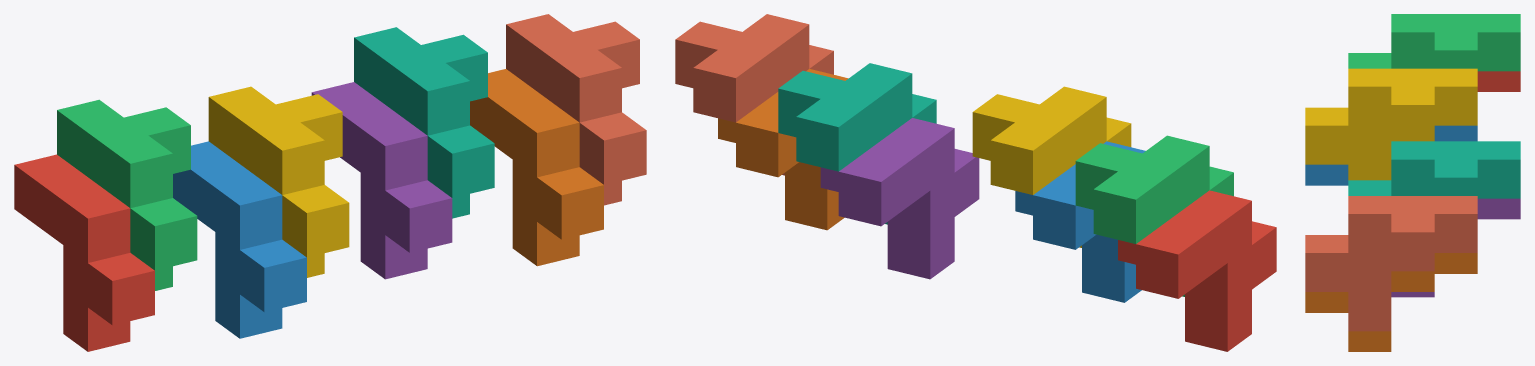
File: tiling.obj
3 renders of one model, left to right at view 1: azimuth 30°, elevation 25°; view 2: azimuth 150°, elevation 25°; view 3: azimuth 270°, elevation 25°, orthographic. The views are drawn at different scales.
Visible parts, largest first — view 1: copy_1_domain_1, copy_1_domain_6, copy_1_domain_2, copy_1_domain_4, copy_1_domain_3, copy_1_domain_8, copy_1_domain_7, copy_1_domain_5; view 2: copy_1_domain_5, copy_1_domain_1, copy_1_domain_3, copy_1_domain_7, copy_1_domain_4, copy_1_domain_8, copy_1_domain_6, copy_1_domain_2; view 3: copy_1_domain_8, copy_1_domain_4, copy_1_domain_7, copy_1_domain_3, copy_1_domain_6, copy_1_domain_2, copy_1_domain_5, copy_1_domain_1.
Part boxes in pixels (<box>): copy_1_domain_1: <box>14,154,154,351</box>; copy_1_domain_6: <box>470,69,603,266</box>; copy_1_domain_2: <box>173,141,306,338</box>; copy_1_domain_4: <box>208,86,349,277</box>; copy_1_domain_3: <box>57,99,197,290</box>; copy_1_domain_8: <box>506,14,646,205</box>; copy_1_domain_7: <box>354,27,494,218</box>; copy_1_domain_5: <box>311,82,452,279</box>; copy_1_domain_5: <box>820,118,979,279</box>; copy_1_domain_1: <box>1118,190,1276,351</box>; copy_1_domain_3: <box>1075,135,1233,296</box>; copy_1_domain_7: <box>778,63,936,224</box>; copy_1_domain_4: <box>972,86,1131,247</box>; copy_1_domain_8: <box>675,14,833,175</box>; copy_1_domain_6: <box>718,69,848,230</box>; copy_1_domain_2: <box>1015,141,1145,302</box>; copy_1_domain_8: <box>1305,196,1477,331</box>; copy_1_domain_4: <box>1305,68,1477,180</box>; copy_1_domain_7: <box>1348,141,1520,198</box>; copy_1_domain_3: <box>1348,14,1520,71</box>; copy_1_domain_6: <box>1305,253,1477,351</box>; copy_1_domain_2: <box>1305,125,1477,185</box>; copy_1_domain_5: <box>1391,198,1520,297</box>; copy_1_domain_1: <box>1477,71,1520,91</box>.
Bounding box in the file's own units: 13 × 4 × 5.
